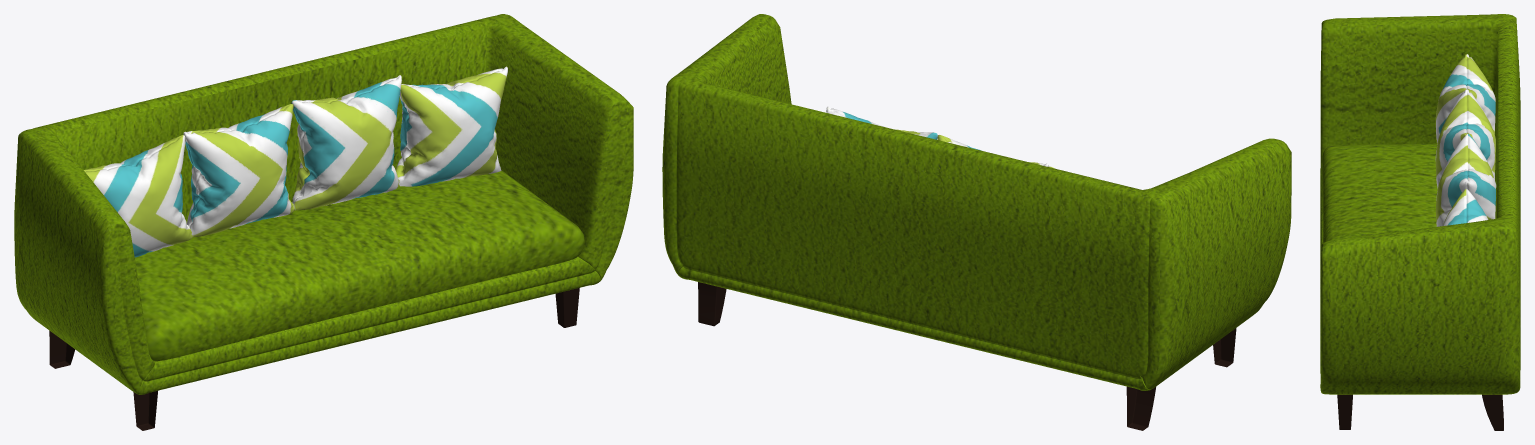
The picture shows the model from 3 angles, left to right: view 1: azimuth 30°, elevation 25°; view 2: azimuth 150°, elevation 25°; view 3: azimuth 270°, elevation 25°; orthographic projection. The views are drawn at different scales.
Visible parts, largest first — view 1: couch, seat, pillow_03_geo, Legs_01_geo; view 2: couch, Legs_01_geo, pillow_03_geo; view 3: couch, seat, pillow_03_geo, Legs_01_geo.
Part boxes in pixels (x1=…): couch: x1=14, y1=14, x2=633, y2=394; seat: x1=135, y1=170, x2=584, y2=361; pillow_03_geo: x1=83, y1=66, x2=507, y2=257; Legs_01_geo: x1=49, y1=287, x2=579, y2=430; couch: x1=662, y1=14, x2=1291, y2=390; Legs_01_geo: x1=698, y1=282, x2=1236, y2=430; pillow_03_geo: x1=826, y1=106, x2=1054, y2=168; couch: x1=1320, y1=14, x2=1520, y2=394; seat: x1=1321, y1=144, x2=1437, y2=242; pillow_03_geo: x1=1435, y1=54, x2=1496, y2=226; Legs_01_geo: x1=1337, y1=394, x2=1503, y2=430.
Size of the model in its own units: 2.09 by 0.8929 by 0.7535.
4 materials, 3 textured.
